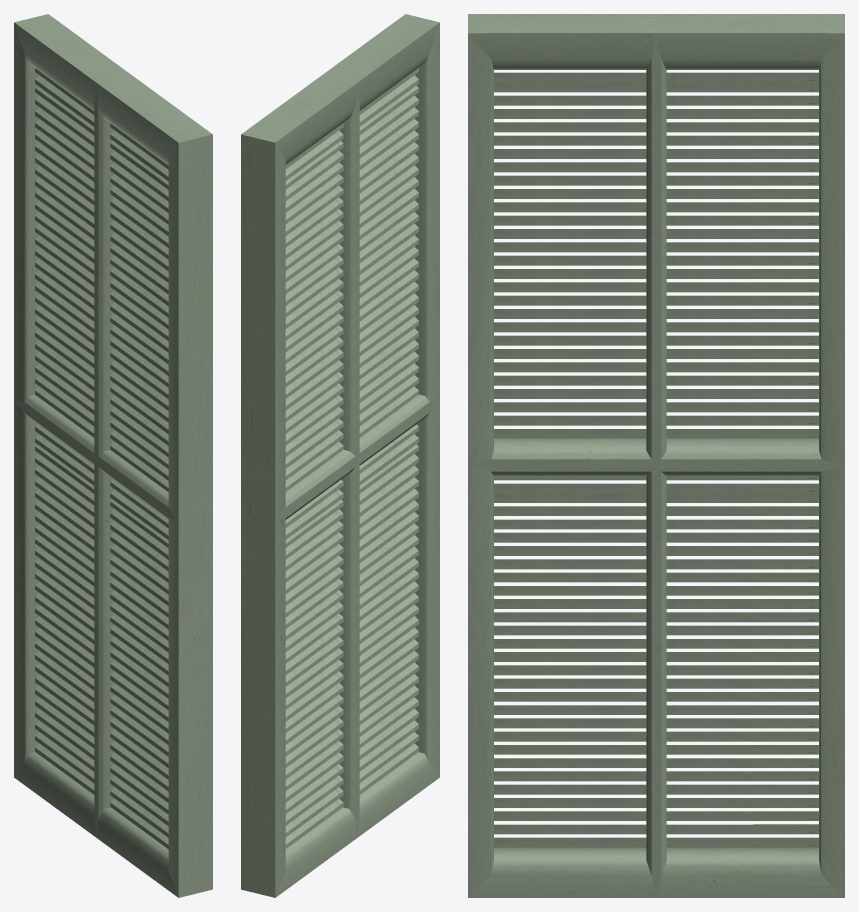
The model's file is SM_WW16_Door_1.fbx.
The picture shows the model from 3 angles, left to right: view 1: azimuth 30°, elevation 25°; view 2: azimuth 150°, elevation 25°; view 3: azimuth 270°, elevation 25°; orthographic projection. The views are drawn at different scales.
Visible parts, largest first — view 1: SM_WW16_Door_1; view 2: SM_WW16_Door_1; view 3: SM_WW16_Door_1.
Boxes of the visible parts, x1,y1,x2,y2 form: SM_WW16_Door_1: (14,14,212,897); SM_WW16_Door_1: (241,14,439,897); SM_WW16_Door_1: (468,14,844,897).
Bounding box in the file's own units: 6.77 × 56.23 × 142.
Materials: 1 (1 with a texture image).
